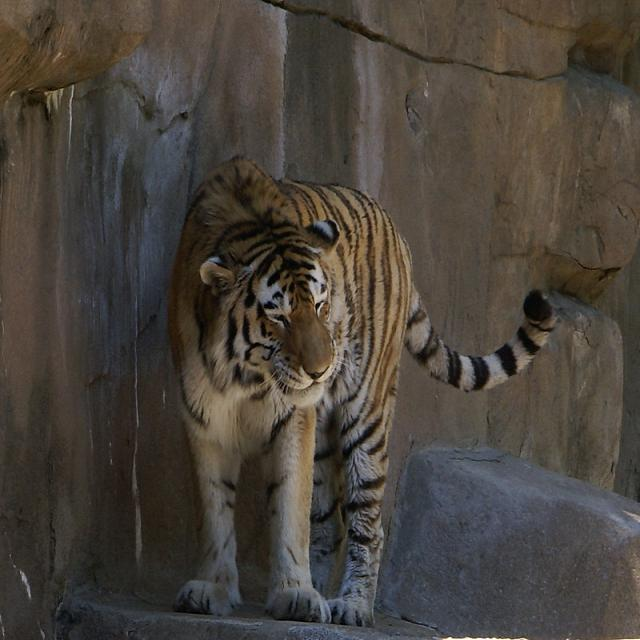Tiger: (170, 141, 558, 634)
